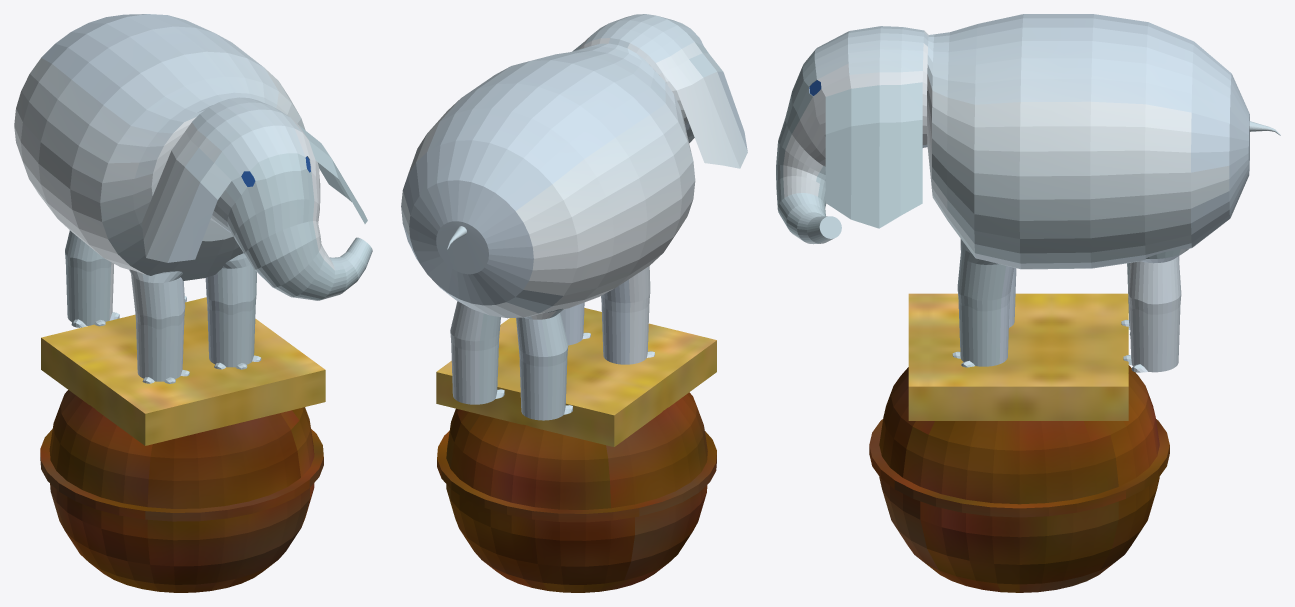
File: vasoelefante.fbx
The picture shows the model from 3 angles, left to right: view 1: azimuth 30°, elevation 25°; view 2: azimuth 150°, elevation 25°; view 3: azimuth 270°, elevation 25°; orthographic projection. The views are drawn at different scales.
Visible parts, largest first — view 1: Plano.043; view 2: Plano.043; view 3: Plano.043.
Boxes of the visible parts, x1=… form: Plano.043: x1=14, y1=14, x2=372, y2=592; Plano.043: x1=401, y1=14, x2=747, y2=592; Plano.043: x1=776, y1=14, x2=1280, y2=592.
Size of the model in its own units: 153 by 296 by 257.
1 material, 1 textured.
